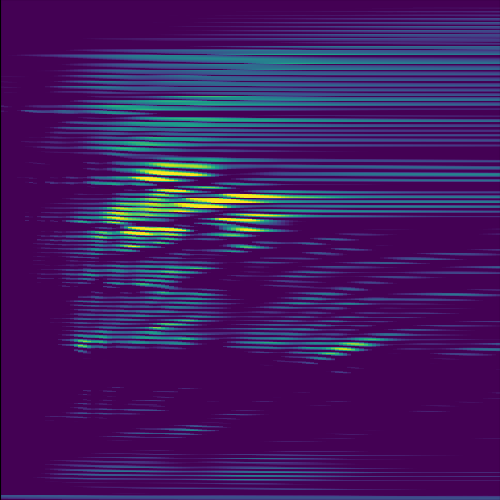semblance: (162, 189, 299, 217), (123, 163, 226, 185), (216, 207, 288, 238)
